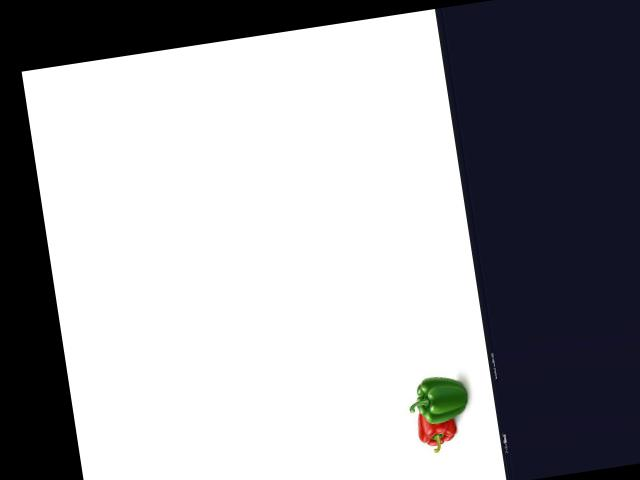bell_pepper: (410, 406, 458, 455)
